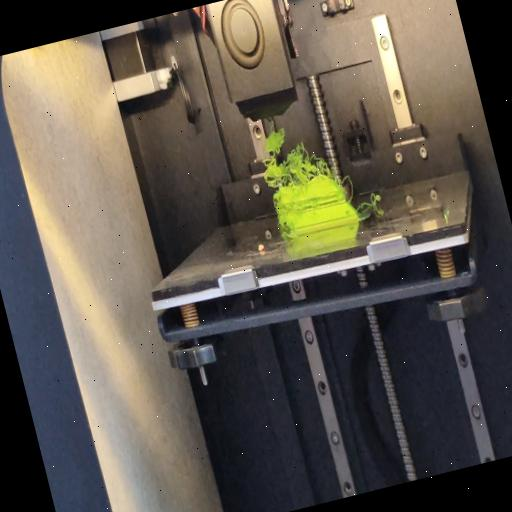spaghetti: (254, 112, 336, 194), (340, 170, 359, 204), (355, 190, 383, 212), (279, 223, 293, 240)
